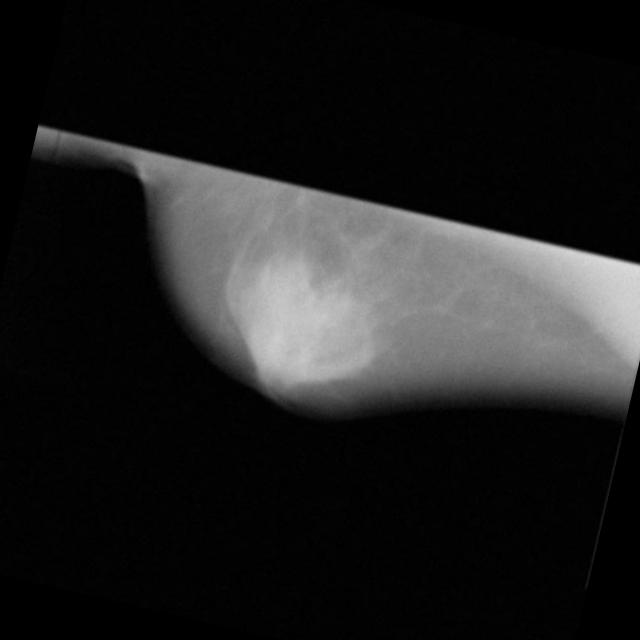ARCH: (278, 270, 342, 333)
